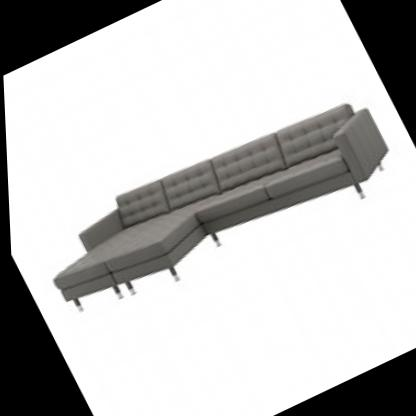Sofa: (10, 73, 416, 353)
